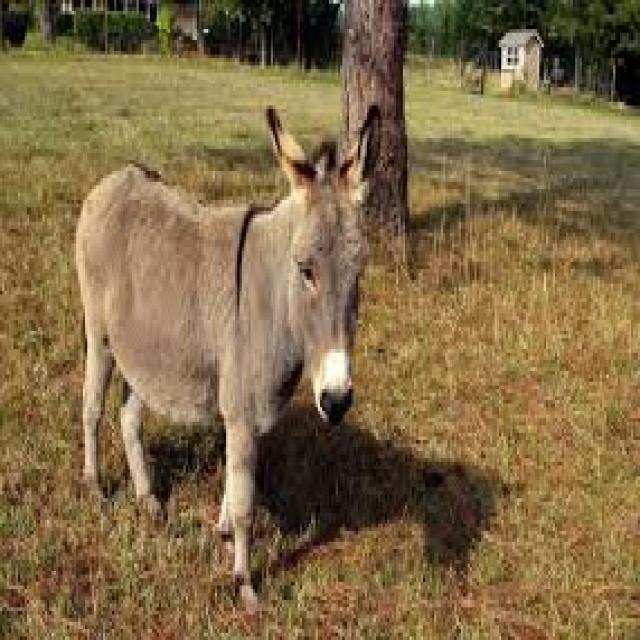Donkey: (57, 97, 408, 616)
